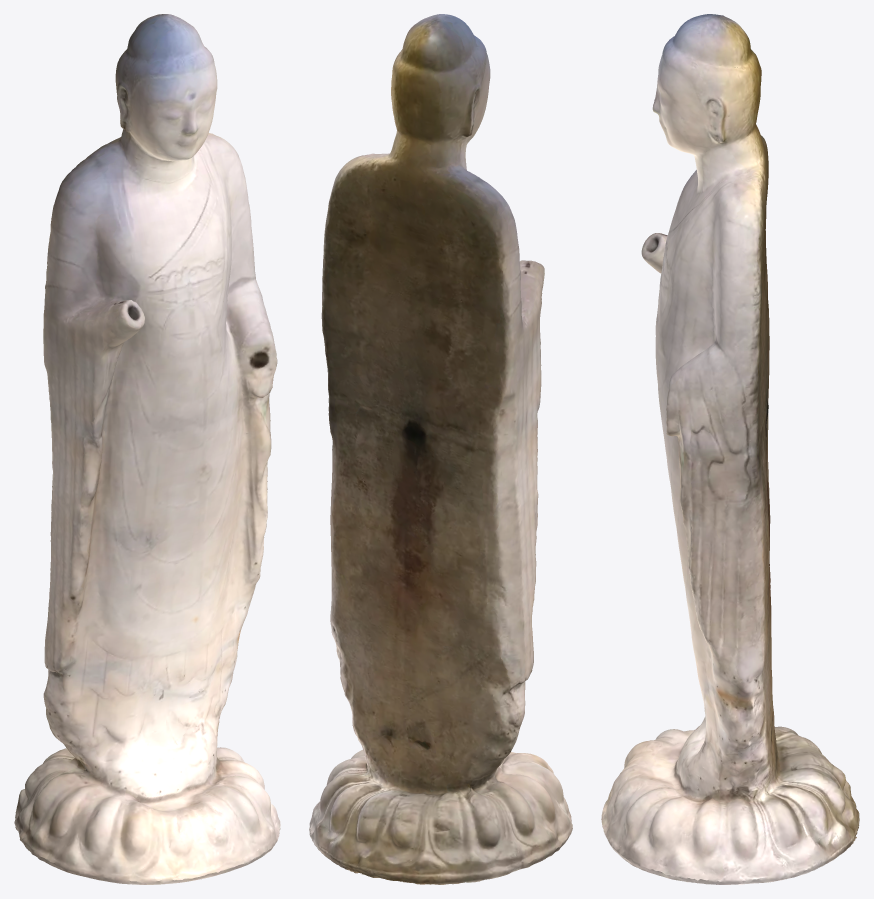
File: preview.glb
The picture shows the model from 3 angles, left to right: view 1: azimuth 30°, elevation 25°; view 2: azimuth 150°, elevation 25°; view 3: azimuth 270°, elevation 25°; orthographic projection.
Visible parts, largest first — view 1: Object_2; view 2: Object_2; view 3: Object_2.
Part boxes in pixels (box(x1,y1,x2,y2)): Object_2: box(14, 14, 280, 884); Object_2: box(309, 14, 572, 884); Object_2: box(601, 14, 859, 884).
Bounding box in the file's own units: 1.9 × 6.45 × 1.85.
Materials: 2 (2 with a texture image).
